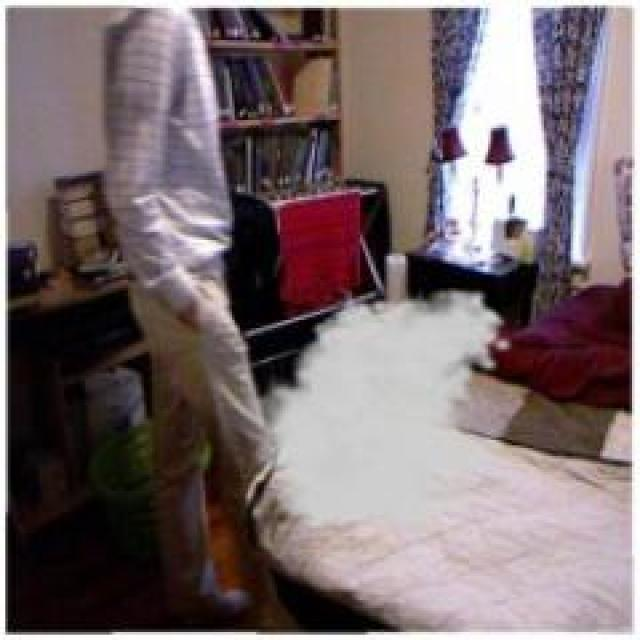smoke: (240, 285, 515, 547)
